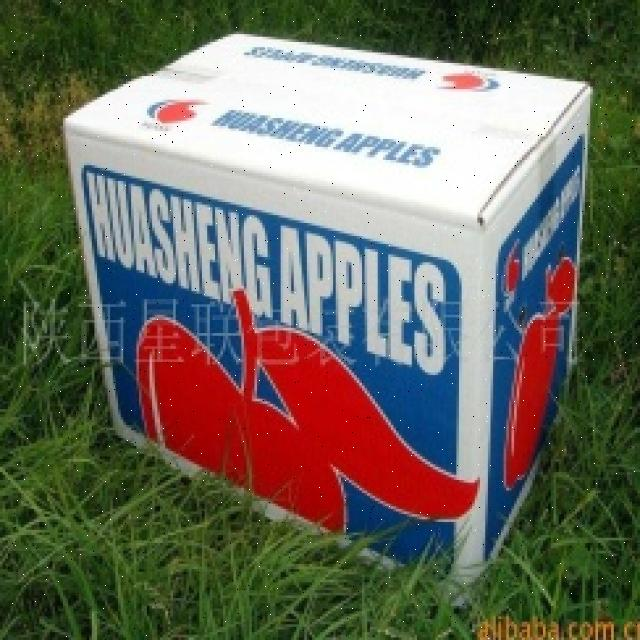box: (53, 33, 601, 580)
